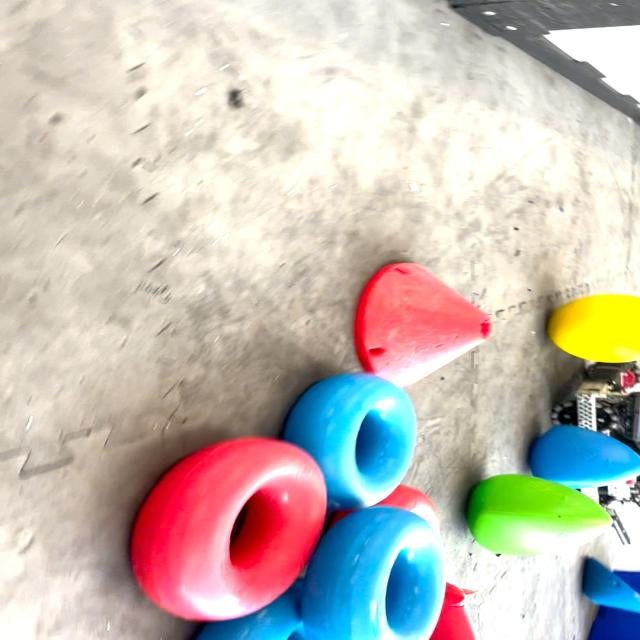Blue-Ring: (300, 506, 444, 640), (282, 374, 416, 509)
Red-Ring: (131, 438, 327, 621)
